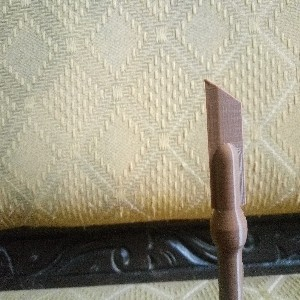cutter: (202, 77, 250, 300)
